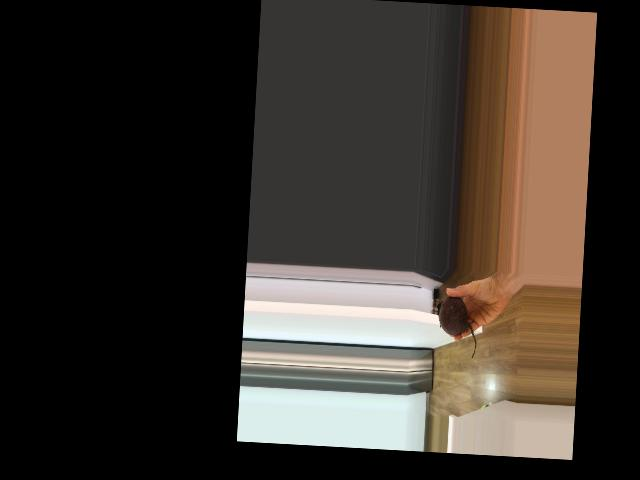beet: (434, 296, 479, 358)
